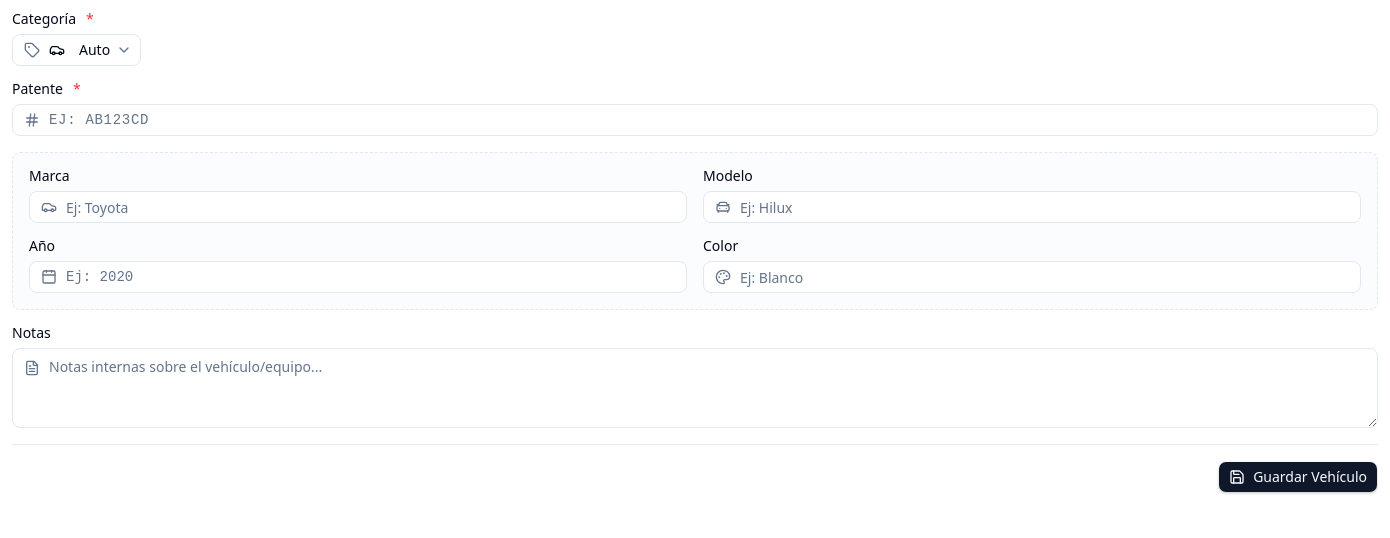
Test: VehicleForm › should block form submission and show error if plate is invalid
In the field labelled "Patente *": (695, 120) left=12, top=104, right=1378, bottom=136, type "invalid-plate"
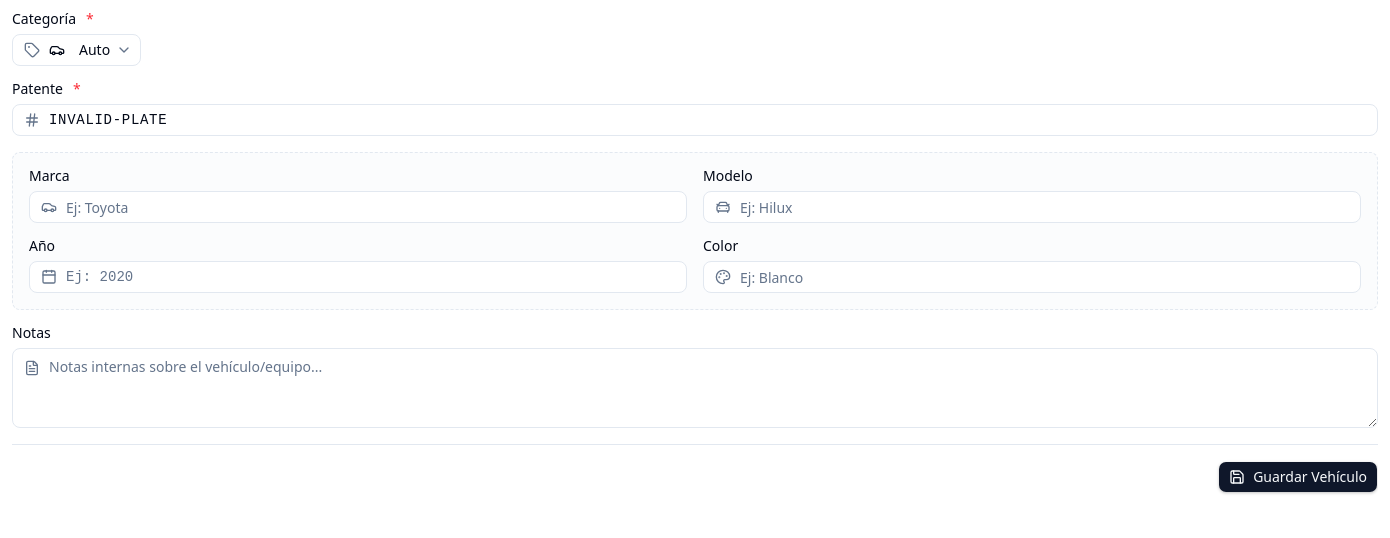
Click the button "Guardar Vehículo": (1298, 477) left=1218, top=461, right=1378, bottom=493
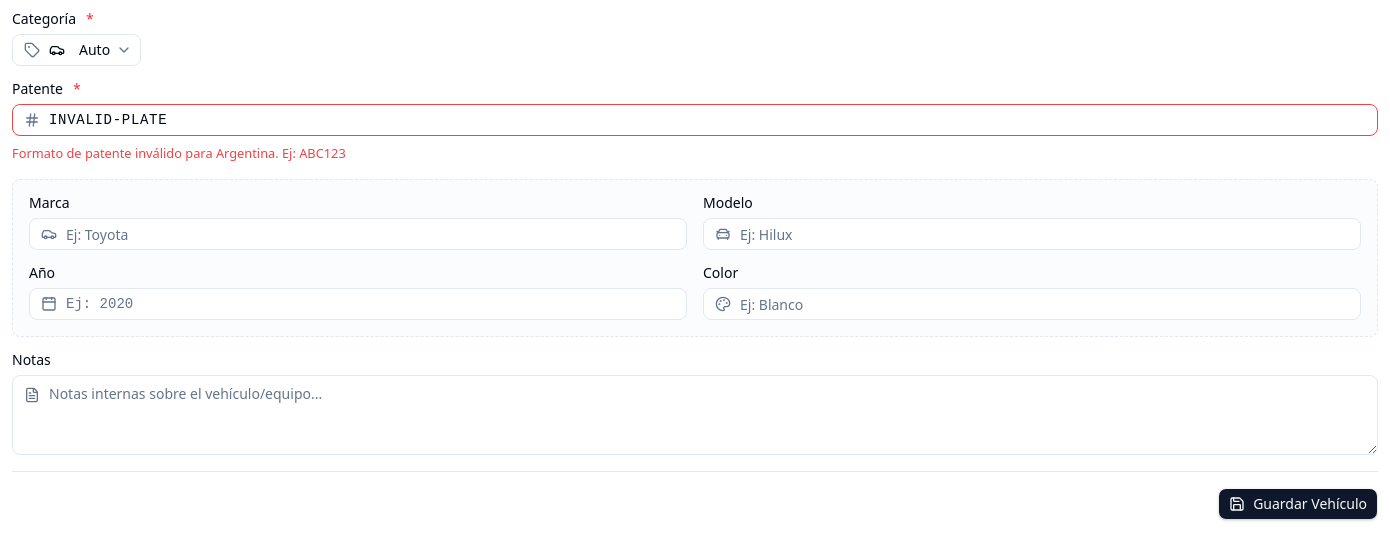
Expected: the text "Formato de patente inválido para Argentina. Ej: ABC123" is shown, left=12, top=144, right=346, bottom=162
